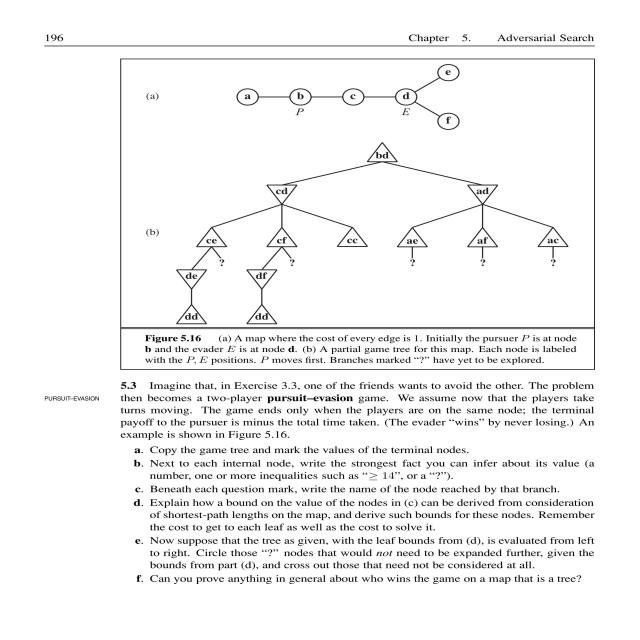diagram: (124, 55, 617, 367)
